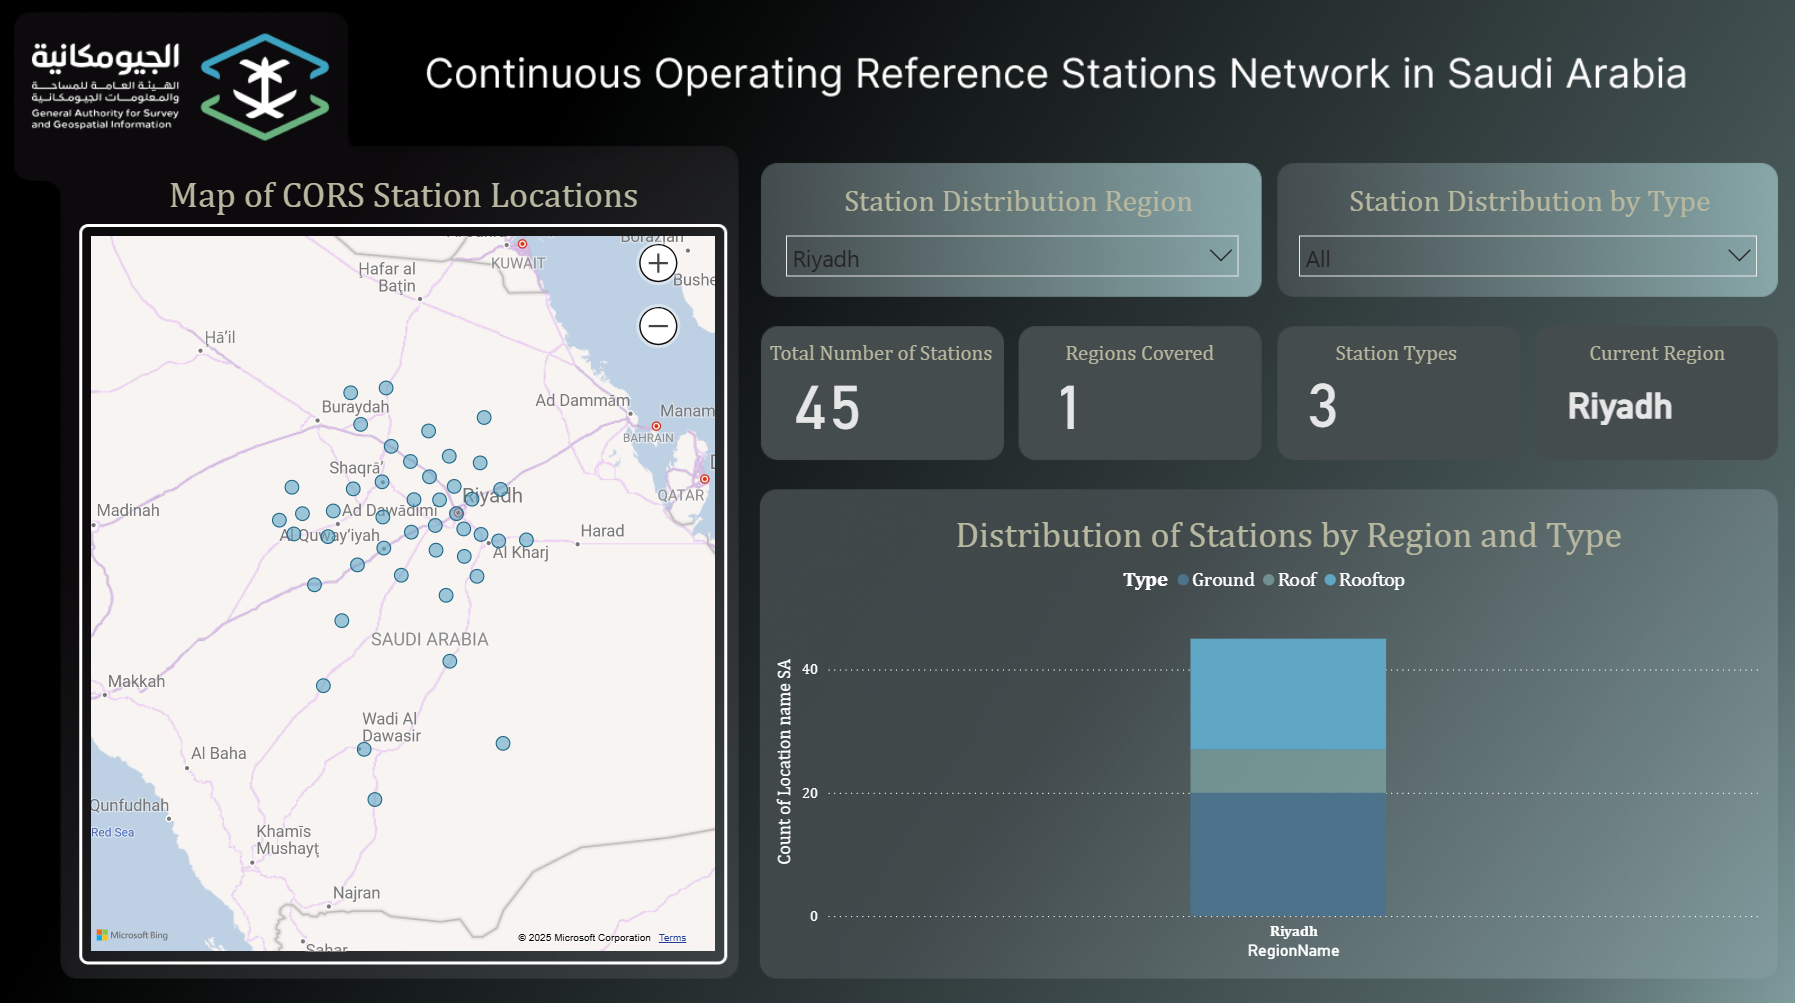

What the dashboard file says about the page in this screenshot:
{"tool":"powerbi","page":{"name":"Page 2","canvas":[1600,900],"ordinal":0},"visuals":[{"type":"map","fields":{"Y":["Coordinates of Continuously Operating Ref station.Latitude"],"X":["Coordinates of Continuously Operating Ref station.Longitude"],"Series":["Region.RegionName"]},"box":[74,200,576,658],"z":0},{"type":"cardVisual","title":"Total Number of Stations","fields":{"Data":["Count(Coordinates of Continuously Operating Ref station.Site ID)"]},"box":[692,298,194,122],"z":1000},{"type":"cardVisual","fields":{"Data":["Count(Region.RegionName)"]},"box":[922.5,297.5,192.5,122.5],"z":2000},{"type":"cardVisual","fields":{"Data":["Count(Coordinates of Continuously Operating Ref station.Type)"]},"box":[1148,296,194,122],"z":3000},{"type":"cardVisual","fields":{"Data":["Coordinates of Continuously Operating Ref station.ShortRegionName"]},"box":[1380,296,194,122],"z":4000},{"type":"slicer","fields":{"Values":["Coordinates of Continuously Operating Ref station.Type"]},"box":[1147.5,200,427.5,56.2],"z":5000},{"type":"textbox","box":[1179.4,158.4,361.2,49.5],"z":6000},{"type":"textbox","box":[726.7,158.3,360,50],"z":7000},{"type":"slicer","fields":{"Values":["Region.RegionName"]},"box":[692.5,200,422.5,56.2],"z":8000},{"type":"columnChart","fields":{"Category":["Region.RegionName"],"Y":["CountNonNull(Coordinates of Continuously Operating Ref station.Location name SA)"],"Series":["Coordinates of Continuously Operating Ref station.Type"]},"box":[687.3,493.3,883.6,364.7],"z":9000},{"type":"textbox","box":[840,452,618,50],"z":10000},{"type":"textbox","box":[128.8,150,468.8,50],"z":11000},{"type":"textbox","box":[670,298.3,233.3,50],"z":12000},{"type":"textbox","box":[900,298.3,233.3,50],"z":13000},{"type":"textbox","box":[1128.3,298.3,233.3,50],"z":14000},{"type":"textbox","box":[1360,298.3,233.3,50],"z":15000}]}

Visuals, with their boxes in screenshot pixels (x1, y1, x2, y2), scaled from the page's 1600x900 canvas onto the 1795x1003 screenshot:
map - Coordinates of Continuously Operating Ref station.Latitude x Coordinates of Continuously Operating Ref station.Longitude: bbox=[83, 223, 729, 956]
"Total Number of Stations" cardVisual: bbox=[776, 332, 994, 468]
cardVisual - Count(Region.RegionName): bbox=[1035, 332, 1251, 468]
cardVisual - Count(Coordinates of Continuously Operating Ref station.Type): bbox=[1288, 330, 1506, 466]
cardVisual - Coordinates of Continuously Operating Ref station.ShortRegionName: bbox=[1548, 330, 1766, 466]
slicer - Coordinates of Continuously Operating Ref station.Type: bbox=[1287, 223, 1767, 286]
textbox: bbox=[1323, 177, 1728, 232]
textbox: bbox=[815, 176, 1219, 232]
slicer - Region.RegionName: bbox=[777, 223, 1251, 286]
columnChart - Region.RegionName x CountNonNull(Coordinates of Continuously Operating Ref station.Location name SA): bbox=[771, 550, 1762, 956]
textbox: bbox=[942, 504, 1636, 559]
textbox: bbox=[144, 167, 670, 223]
textbox: bbox=[752, 332, 1013, 388]
textbox: bbox=[1010, 332, 1271, 388]
textbox: bbox=[1266, 332, 1528, 388]
textbox: bbox=[1526, 332, 1787, 388]
